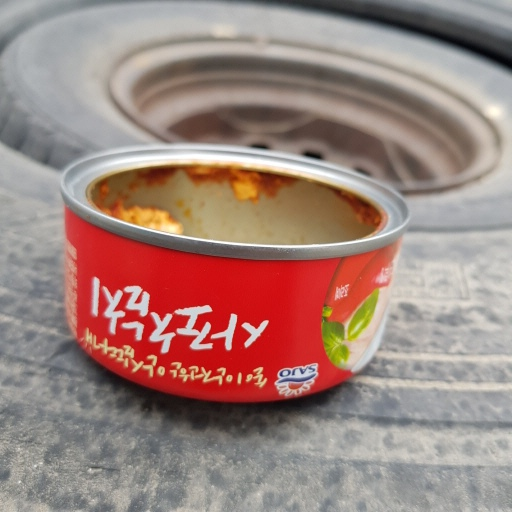Metal_1: (59, 148, 410, 406)
